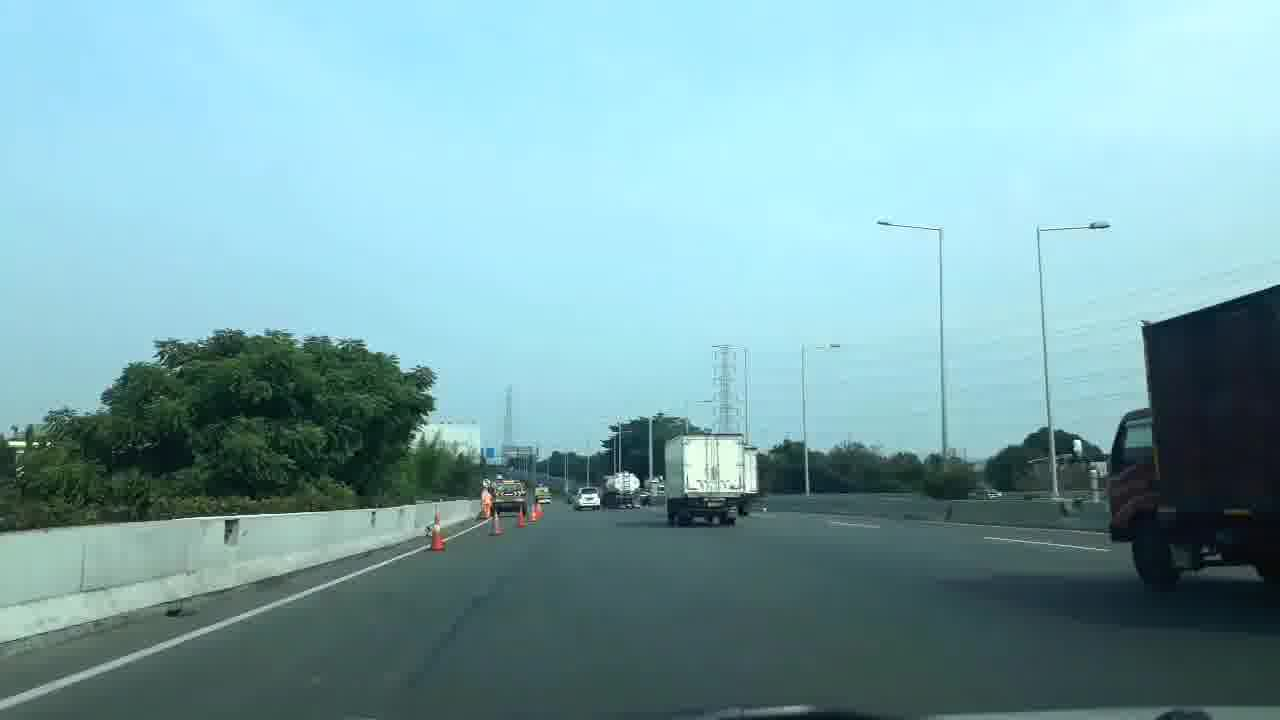plate_positive: (706, 501, 725, 508)
